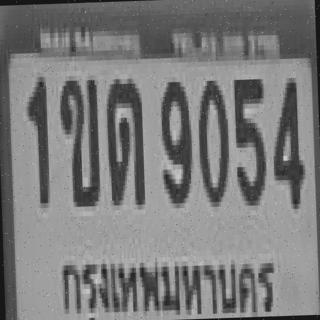A02: (57, 70, 98, 202)
A21: (104, 74, 143, 205)
N00: (195, 75, 228, 202)
N01: (24, 72, 48, 203)
N04: (268, 72, 302, 204)
N05: (232, 74, 265, 201)
N09: (158, 76, 192, 204)
P04: (53, 238, 284, 320)
